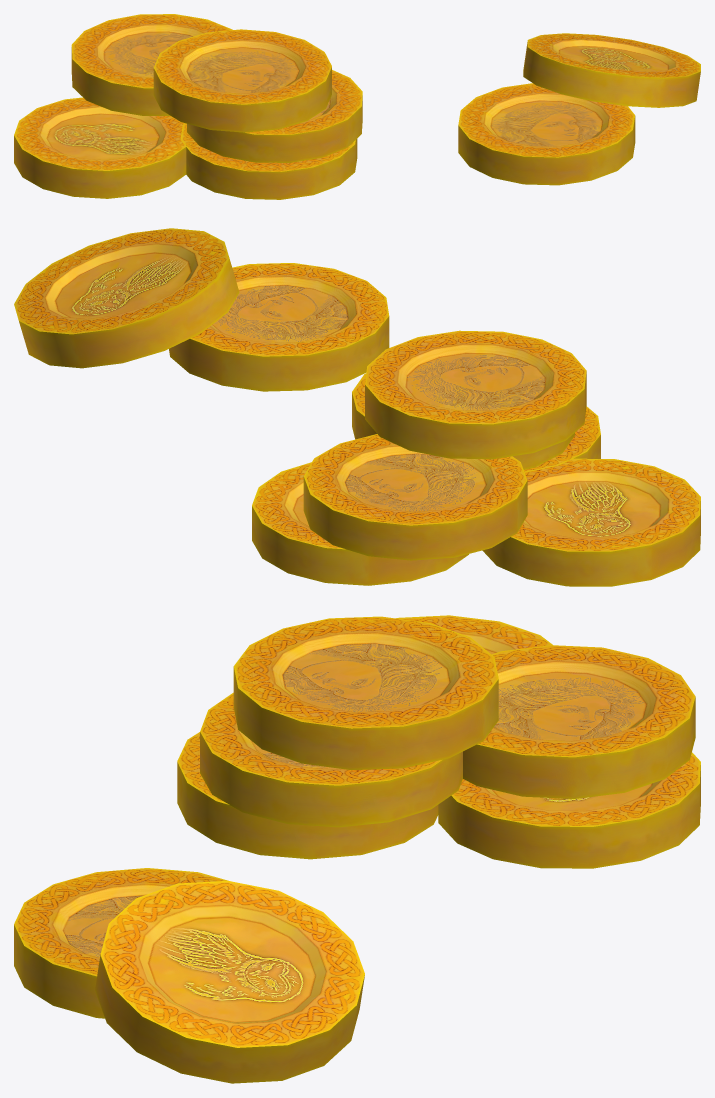
File: coin.glb
3 views of the same model, one above another, from view 1: azimuth 30°, elevation 25°; view 2: azimuth 150°, elevation 25°; view 3: azimuth 270°, elevation 25° (orthographic). The views are drawn at different scales.
Parts seen in each view (by area): view 1: Circle.004, Circle, Circle.006, Circle.001, Circle.007, Circle.003, Circle.002; view 2: Circle.004, Circle.001, Circle.007, Circle.006, Circle, Circle.005, Circle.003, Circle.002; view 3: Circle.001, Circle.004, Circle.007, Circle.005, Circle.003, Circle, Circle.002, Circle.006.
Boxes of the visible parts, left/top/right/bottom form: Circle.004: left=153, top=29, right=331, bottom=132; Circle: left=458, top=83, right=635, bottom=185; Circle.006: left=14, top=97, right=186, bottom=198; Circle.001: left=523, top=33, right=700, bottom=107; Circle.007: left=71, top=14, right=232, bottom=115; Circle.003: left=187, top=70, right=362, bottom=162; Circle.002: left=180, top=123, right=357, bottom=199; Circle.004: left=365, top=330, right=586, bottom=459; Circle.001: left=14, top=228, right=239, bottom=368; Circle.007: left=303, top=434, right=527, bottom=560; Circle.006: left=482, top=458, right=700, bottom=586; Circle: left=169, top=263, right=389, bottom=391; Circle.005: left=252, top=462, right=468, bottom=585; Circle.003: left=352, top=373, right=574, bottom=469; Circle.002: left=524, top=406, right=600, bottom=472; Circle.001: left=95, top=881, right=364, bottom=1083; Circle.004: left=233, top=616, right=498, bottom=770; Circle.007: left=463, top=645, right=695, bottom=798; Circle.005: left=438, top=752, right=700, bottom=868; Circle.003: left=200, top=692, right=462, bottom=827; Circle: left=14, top=868, right=228, bottom=1018; Circle.002: left=177, top=732, right=438, bottom=859; Circle.006: left=396, top=615, right=552, bottom=654.
Size of the model in its own units: 7.7 by 1.04 by 5.15.
Materials: 1 (1 with a texture image).
